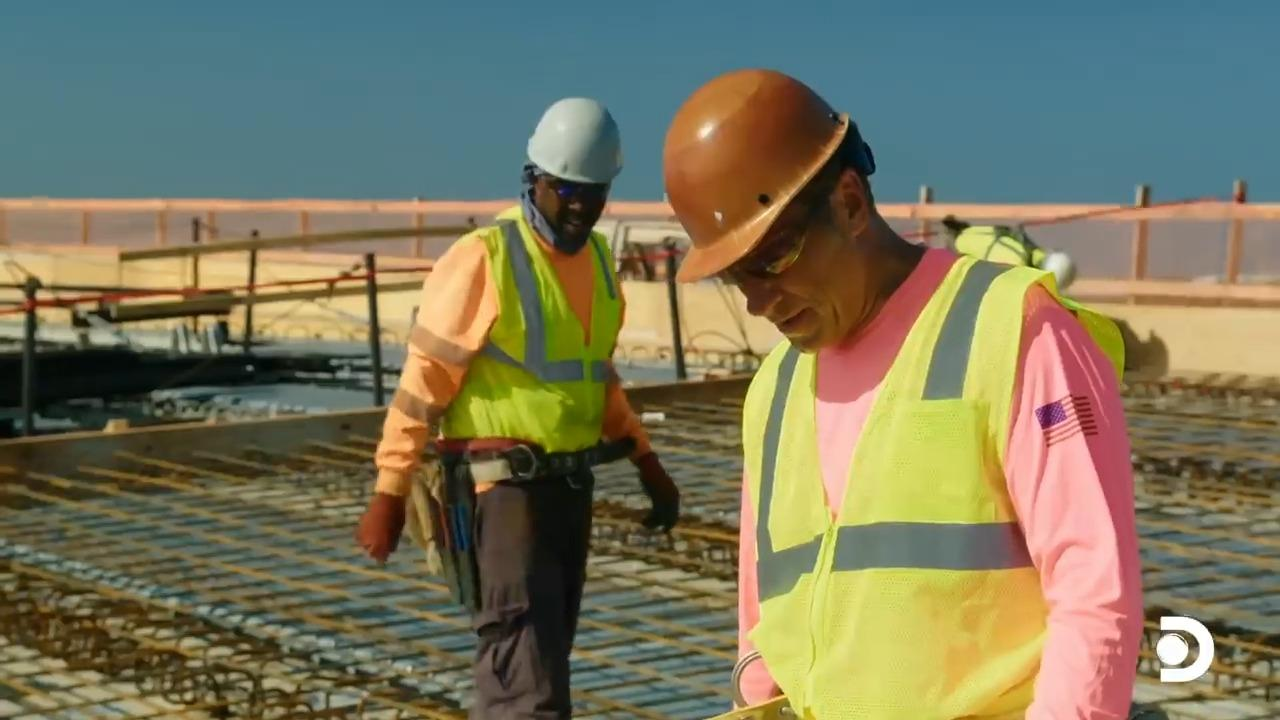Gloves: (344, 481, 410, 555), (640, 453, 689, 536)
Helmet: (662, 67, 850, 284), (526, 96, 623, 185)
Person: (662, 67, 1146, 719), (353, 95, 680, 719)
Safety Vest: (759, 368, 1043, 708), (448, 246, 609, 434)
